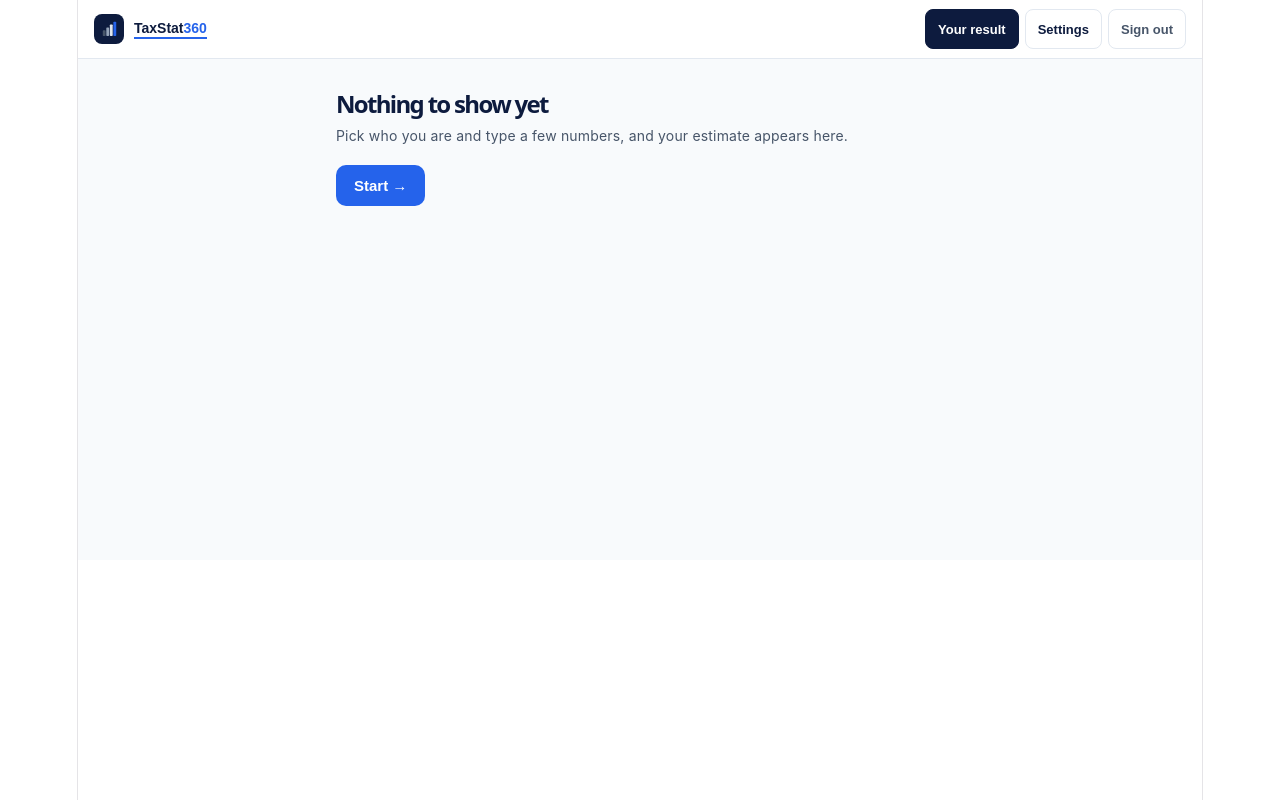
Scenario: Screens 2 and 3 — the acceptance walk › Result with nothing entered offers Start instead of a blank number
expect the heading "Nothing to show yet" is shown: met, box [336,87,548,120]
What coordinates should you click on to do the following:
click the button "Start →"
I would click on:
 (381, 186)
Its box is [336,165,425,206].
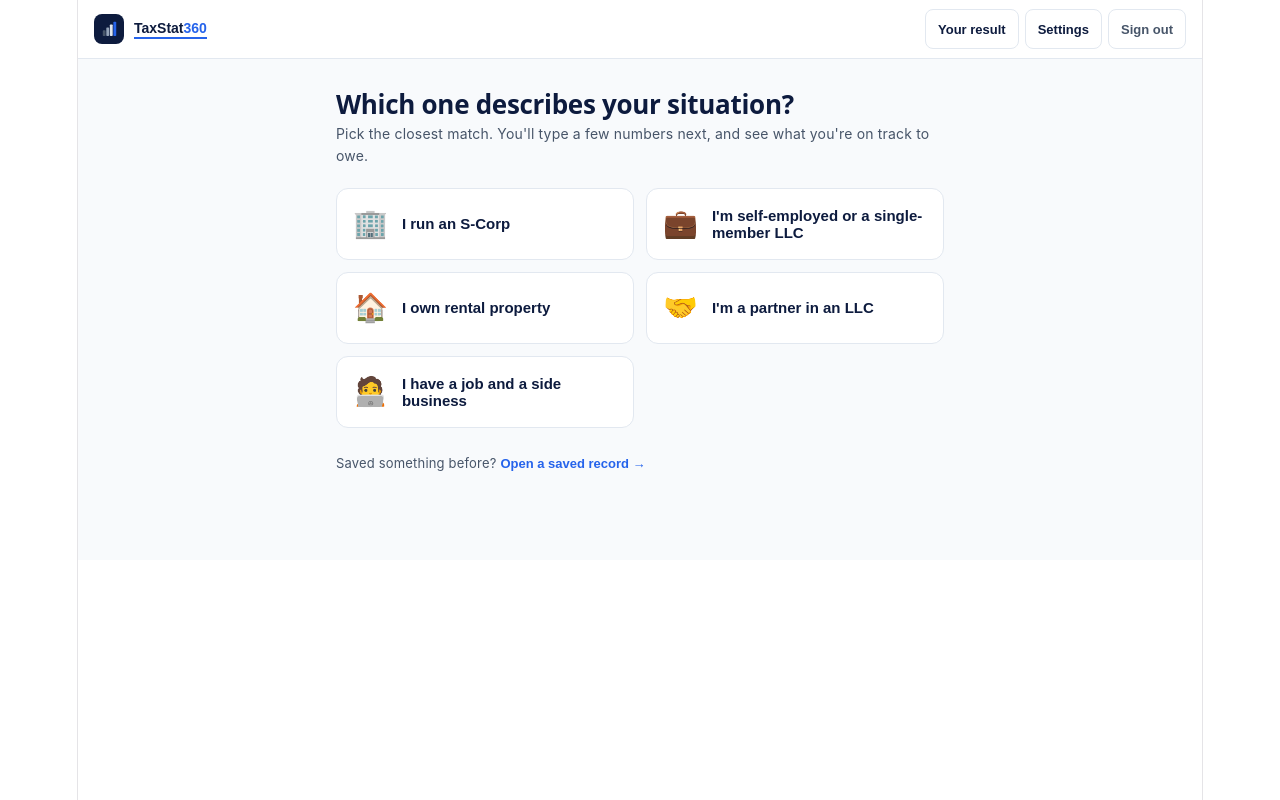
expect the heading "Which one describes your situation?" is shown: met, box [336,86,794,122]
